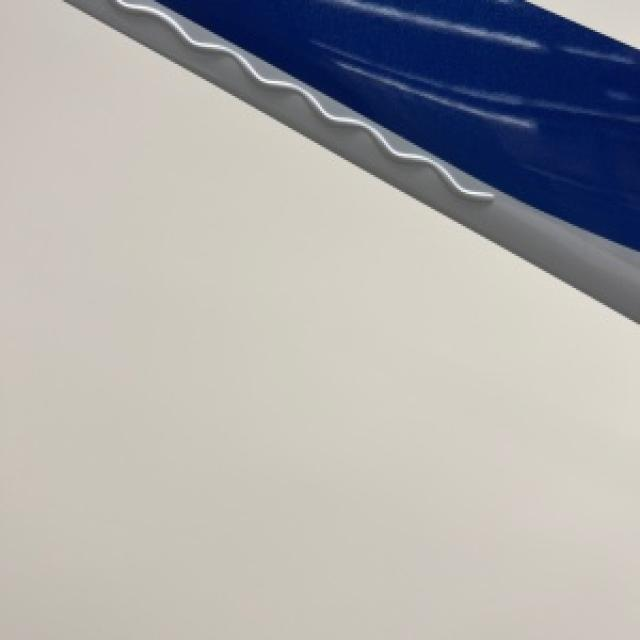healthy: (68, 0, 638, 320)
